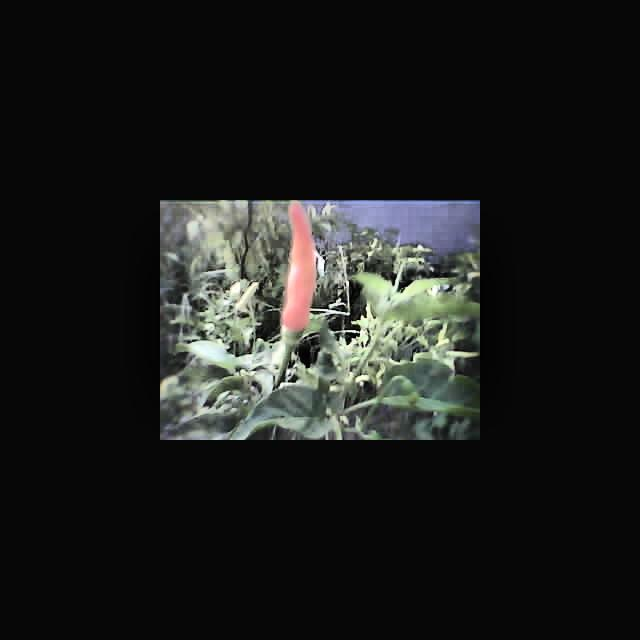Cabai: (280, 201, 332, 335)
